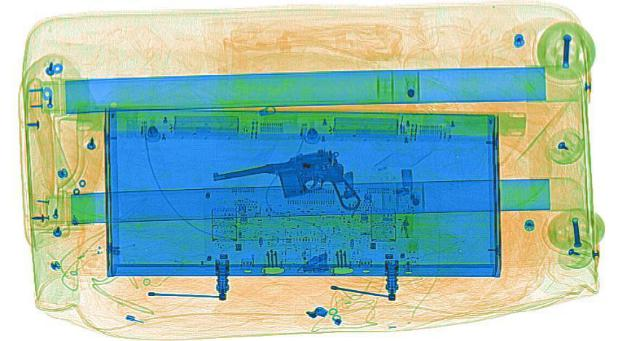Gun: (200, 147, 374, 226)
